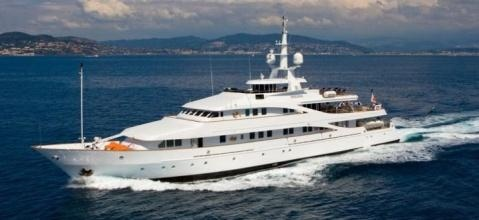yacht: (30, 31, 409, 182)
